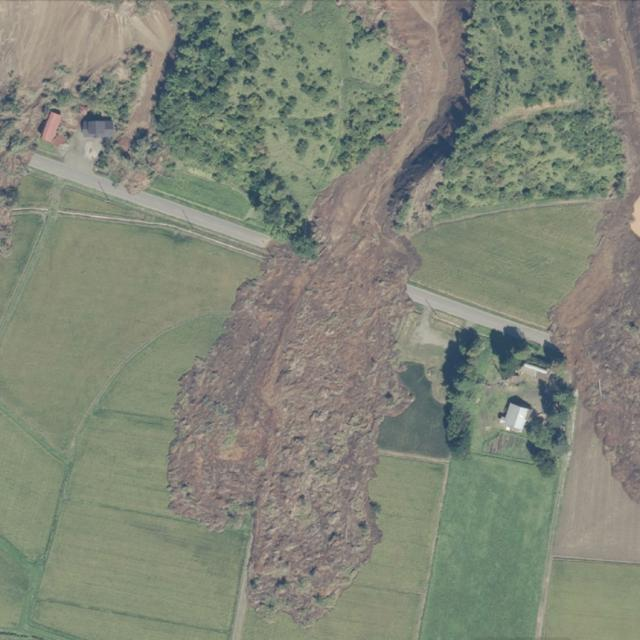landslide: (168, 0, 473, 624), (0, 1, 176, 253), (552, 0, 640, 501)
